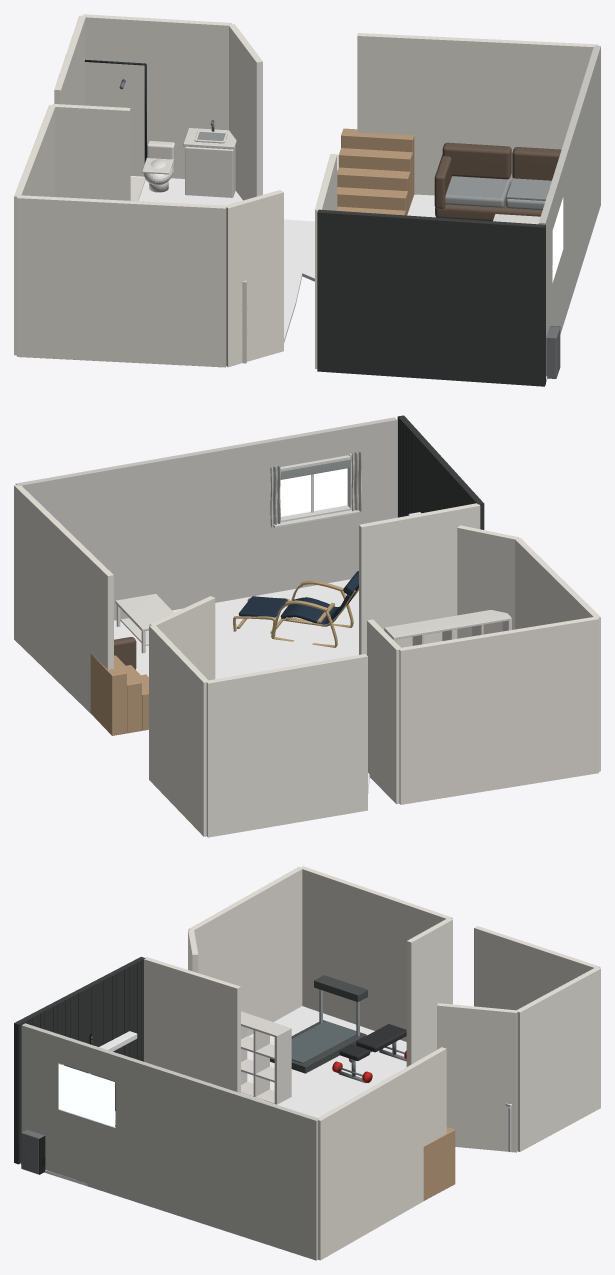
3 views of the same model, one above another, from view 1: azimuth 30°, elevation 25°; view 2: azimuth 150°, elevation 25°; view 3: azimuth 270°, elevation 25° (orthographic). The views are drawn at different scales.
Visible parts, largest first — view 1: source-wall-8-replacement, home-lower-level_observed_wall_0_panel, home-lower-level_observed_wall_6_panel, home-lower-level_observed_wall_4_panel, home-lower-level_observed_wall_10_panel, home-lower-level_observed_wall_2_panel, actual-window-cutout-wall-right, home-lower-level__lounge_sofa, home-lower-level_observed_wall_5_panel, home-lower-level_independently_traced_floor, home-lower-level_observed_wall_1_panel, home-lower-level__bath_vanity__cabinet (+16 smaller); view 2: home-lower-level_observed_wall_1_panel, actual-window-cutout-wall-right, home-lower-level_observed_wall_3_panel, home-lower-level_observed_wall_6_panel, home-lower-level_observed_wall_9_panel, home-lower-level_observed_wall_4_panel, home-lower-level_independently_traced_floor, home-lower-level_observed_wall_10_panel, home-lower-level_observed_wall_2_panel, source-wall-8-replacement, actual-window-cutout-wall-below, actual-window-cutout-wall-left (+14 smaller); view 3: actual-window-cutout-wall-right, home-lower-level_observed_wall_6_panel, home-lower-level_observed_wall_1_panel, home-lower-level_observed_wall_4_panel, home-lower-level_observed_wall_0_panel, home-lower-level_observed_wall_5_panel, home-lower-level_observed_wall_9_panel, source-wall-8-replacement, home-lower-level_observed_wall_3_panel, home-lower-level_independently_traced_floor, home-lower-level_observed_wall_2_panel, actual-window-cutout-wall-left (+12 smaller).
Part boxes in pixels (<box>): source-wall-8-replacement: <box>317,209,545,386</box>; home-lower-level_observed_wall_0_panel: <box>17,195,226,367</box>; home-lower-level_observed_wall_6_panel: <box>357,33,598,195</box>; home-lower-level_observed_wall_4_panel: <box>83,14,231,178</box>; home-lower-level_observed_wall_10_panel: <box>226,190,283,367</box>; home-lower-level_observed_wall_2_panel: <box>52,104,130,200</box>; actual-window-cutout-wall-right: <box>556,45,600,324</box>; home-lower-level__lounge_sofa: <box>442,142,561,210</box>; home-lower-level_observed_wall_5_panel: <box>229,24,262,200</box>; home-lower-level_independently_traced_floor: <box>130,176,547,382</box>; home-lower-level_observed_wall_1_panel: <box>14,105,55,355</box>; home-lower-level__bath_vanity__cabinet: <box>185,146,235,197</box>; home-lower-level_observed_wall_1_panel: <box>399,617,598,804</box>; actual-window-cutout-wall-right: <box>15,438,276,620</box>; home-lower-level_observed_wall_3_panel: <box>206,654,367,837</box>; home-lower-level_observed_wall_6_panel: <box>14,485,113,713</box>; home-lower-level_observed_wall_9_panel: <box>359,503,480,654</box>; home-lower-level_observed_wall_4_panel: <box>149,624,207,836</box>; home-lower-level_independently_traced_floor: <box>114,579,369,793</box>; home-lower-level_observed_wall_10_panel: <box>457,525,518,638</box>; home-lower-level_observed_wall_2_panel: <box>367,619,401,803</box>; source-wall-8-replacement: <box>397,415,484,529</box>; actual-window-cutout-wall-below: <box>276,505,350,592</box>; actual-window-cutout-wall-left: <box>348,417,397,579</box>; actual-window-cutout-wall-right: <box>115,1054,319,1260</box>; home-lower-level_observed_wall_6_panel: <box>318,1047,446,1260</box>; home-lower-level_observed_wall_1_panel: <box>302,866,452,1041</box>; home-lower-level_observed_wall_4_panel: <box>515,967,600,1151</box>; home-lower-level_observed_wall_0_panel: <box>188,866,303,1036</box>; home-lower-level_observed_wall_5_panel: <box>437,1003,517,1152</box>; home-lower-level_observed_wall_9_panel: <box>144,957,240,1092</box>; source-wall-8-replacement: <box>14,956,145,1164</box>; home-lower-level_observed_wall_3_panel: <box>474,926,600,1010</box>; home-lower-level_independently_traced_floor: <box>21,1006,406,1186</box>; home-lower-level_observed_wall_2_panel: <box>406,918,452,1066</box>; actual-window-cutout-wall-left: <box>21,1023,61,1173</box>.
Size of the model in its own units: 8.99 by 2.3 by 8.76.
